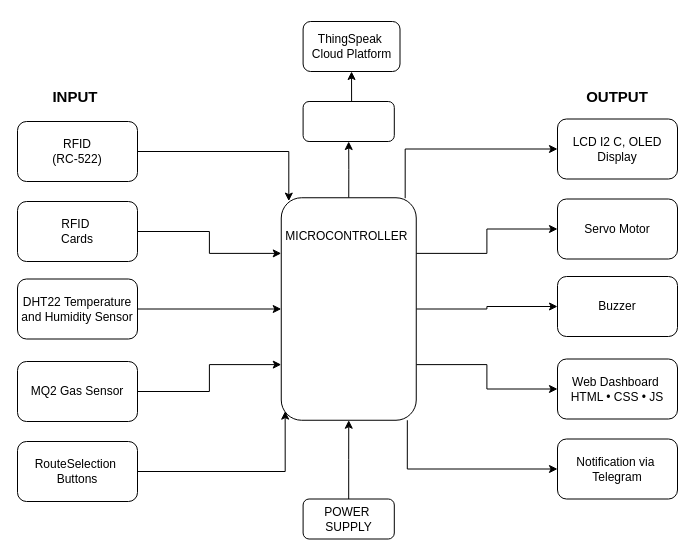
The diagram is 695 pixels wide and 556 high, and some of its shapes have lost their labels. The shapes that lost their labels are listed below. From the top down, each one's centre as x and y in pixels, then its label:
[348,121]: Wi-Fi CONNECTION
[348,308]: ESP 32- WROOM
